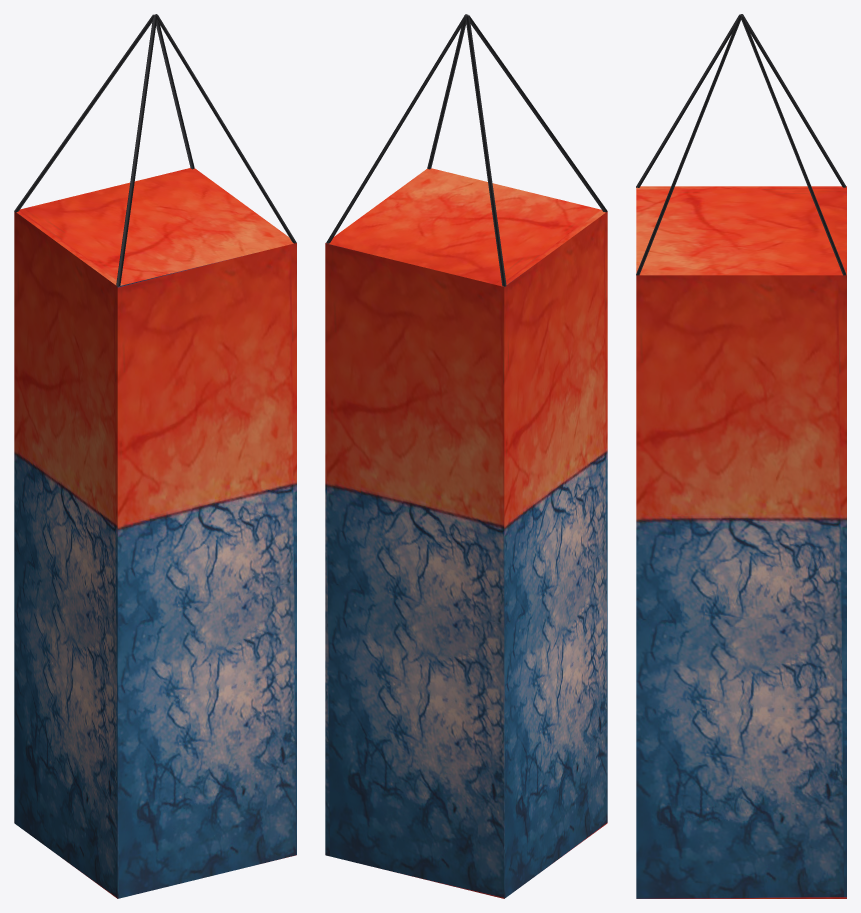
Rendered from 청사초롱 2.FBX.
3 renders of one model, left to right at view 1: azimuth 30°, elevation 25°; view 2: azimuth 150°, elevation 25°; view 3: azimuth 270°, elevation 25°, orthographic.
Visible parts, largest first — view 1: 청사초롱 2; view 2: 청사초롱 2; view 3: 청사초롱 2.
Part boxes in pixels (left/top/right/bottom): 청사초롱 2: left=14, top=14, right=296, bottom=898; 청사초롱 2: left=325, top=14, right=607, bottom=898; 청사초롱 2: left=636, top=14, right=846, bottom=898.
Bounding box in the file's own units: 8.38 × 36.73 × 8.36.
